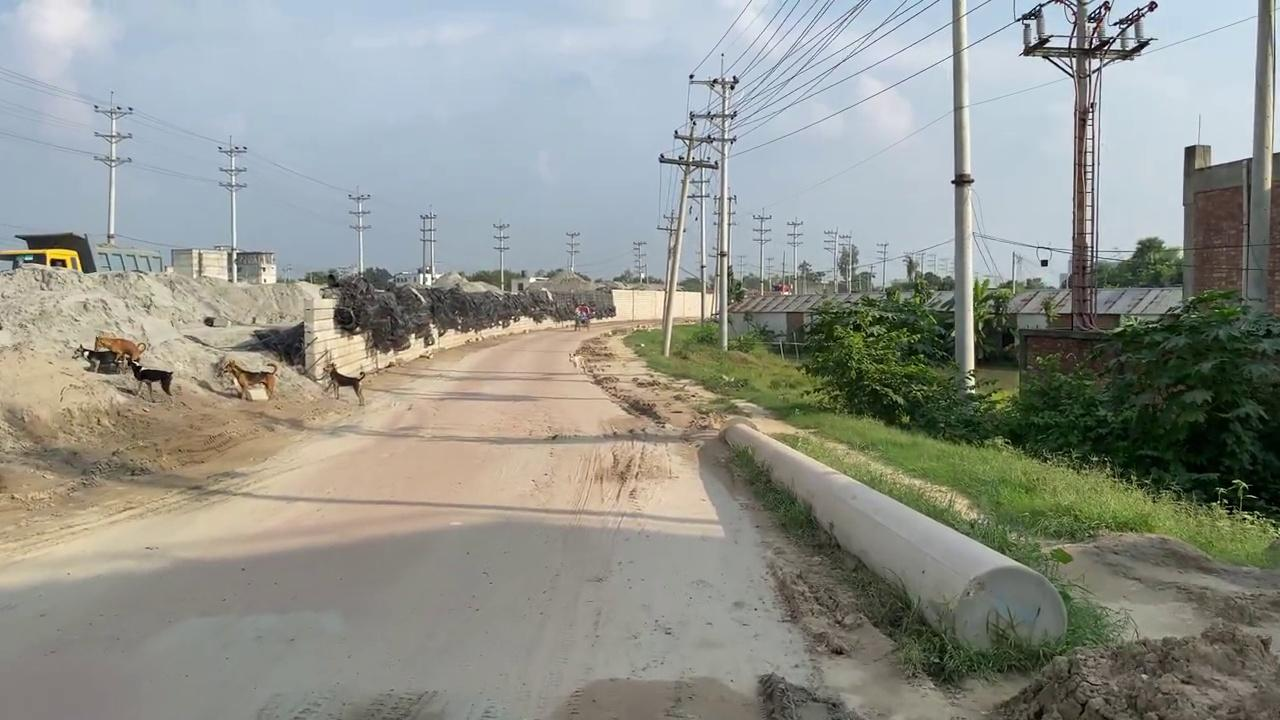Animal: (220, 358, 277, 400), (127, 357, 173, 401), (321, 362, 365, 405), (93, 335, 146, 368), (73, 344, 123, 373)
Fence: (302, 280, 614, 382)
Obstacle: (718, 415, 1068, 658)
Pole: (1242, 0, 1276, 313), (950, 0, 976, 396), (712, 70, 739, 355), (1069, 1, 1092, 329)
Tree: (0, 231, 164, 274), (169, 246, 277, 284), (0, 247, 83, 273)
